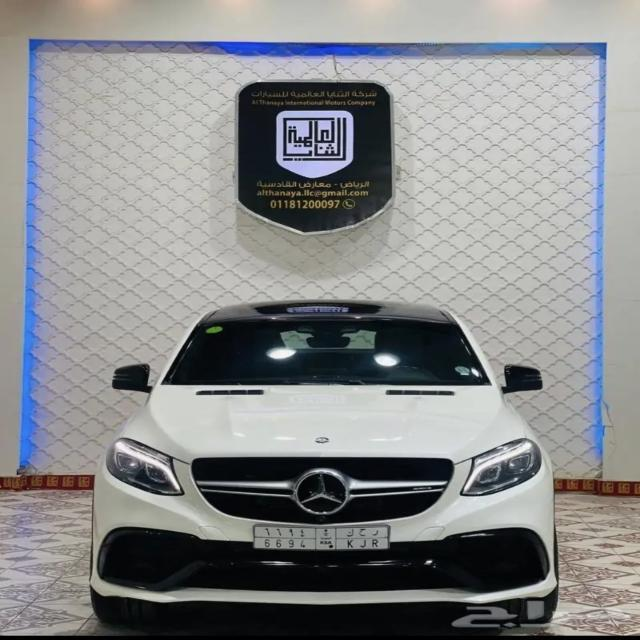license_plate: (254, 523, 392, 552)
